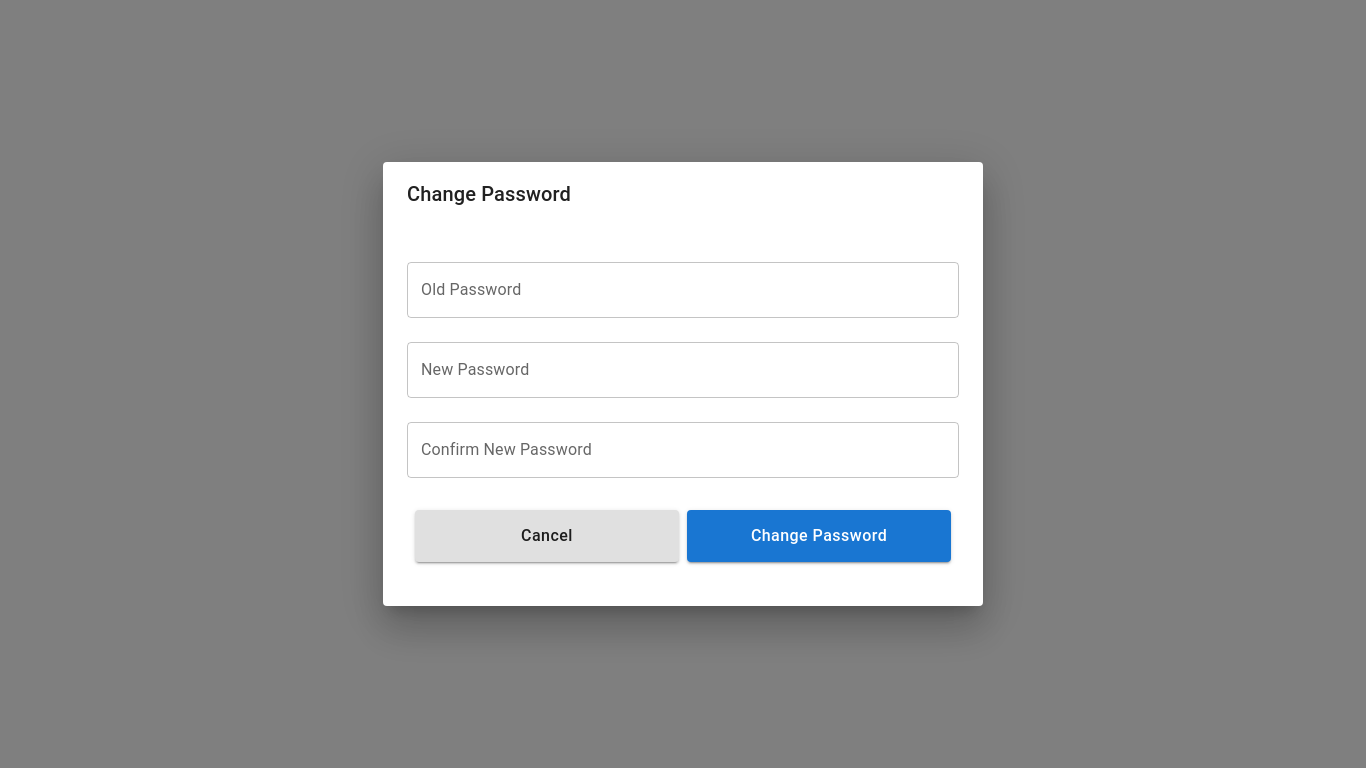
Test: ChangePasswordModal › shows error message when password change fails
# Submit the form
Click the button "Change Password".
click(819, 536)  # box [687,510,951,562]
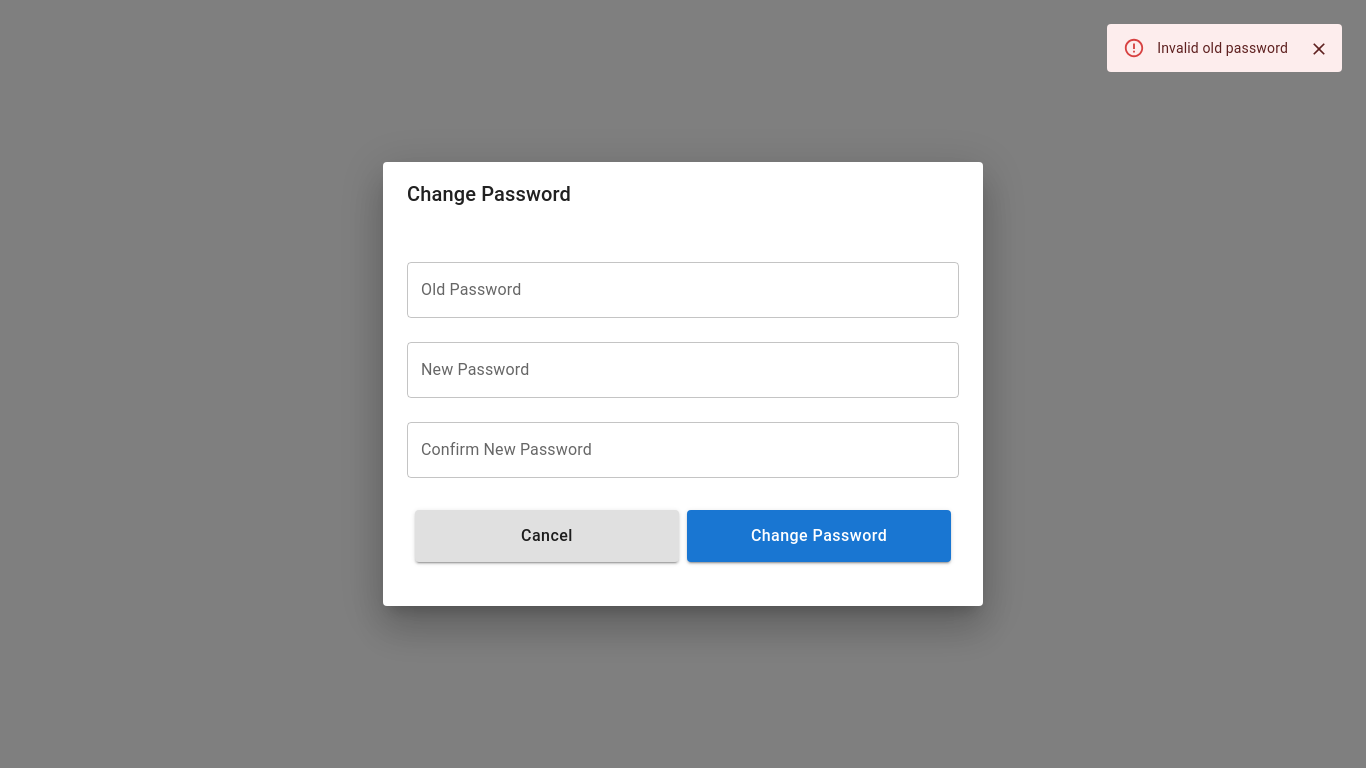
Expected: the text "Invalid old password" is shown, [1157,40,1288,56]
